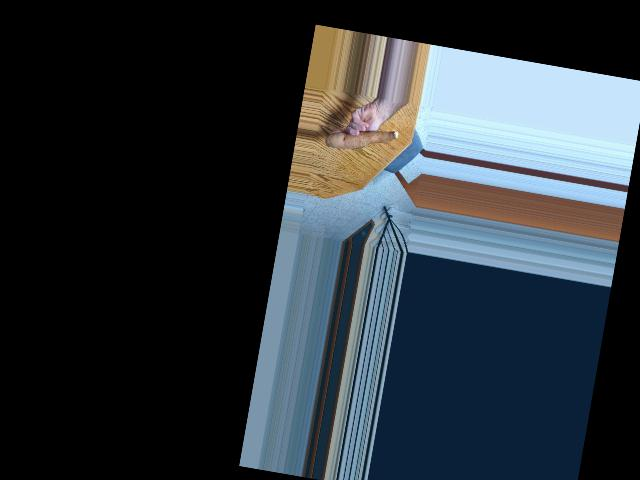sweet_potato: (325, 119, 401, 163)
